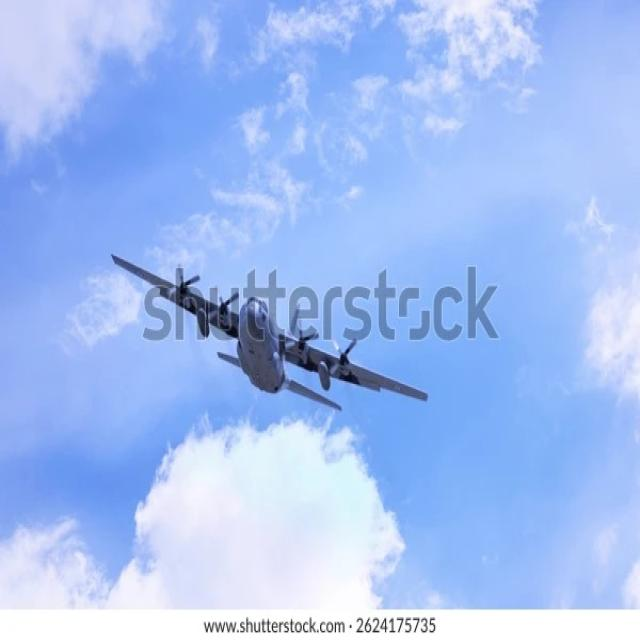C130: (93, 223, 500, 457)
